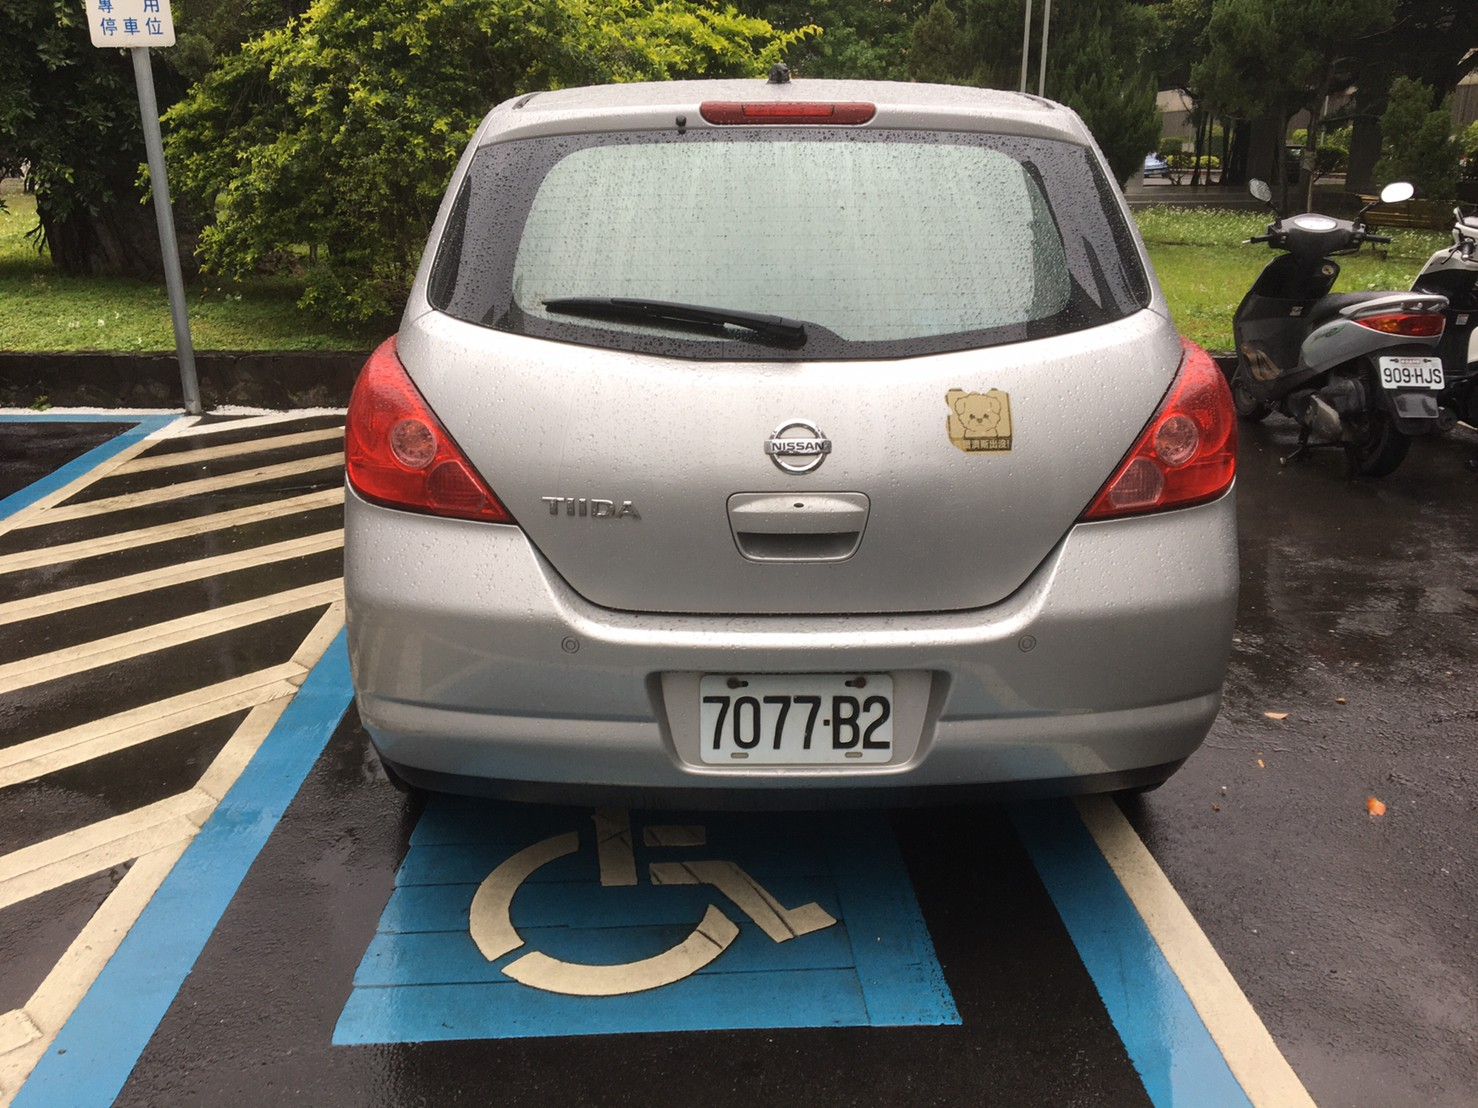LP: (695, 665, 903, 769), (1372, 351, 1449, 392)
